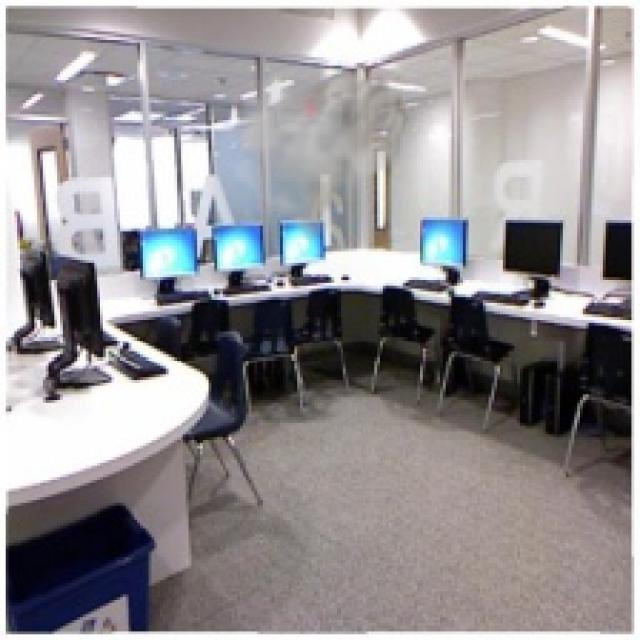Smoke: (225, 48, 426, 248)
